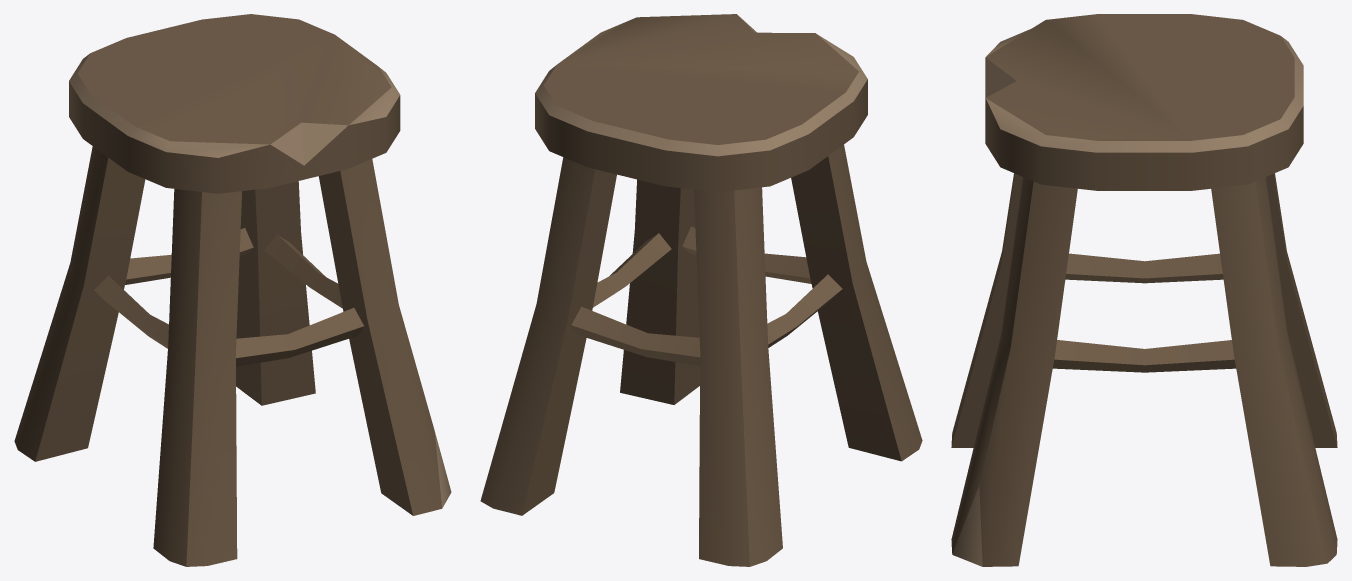
Rendered from 28_LP_Stool.fbx.
3 views of the same model, side by side, from view 1: azimuth 30°, elevation 25°; view 2: azimuth 150°, elevation 25°; view 3: azimuth 270°, elevation 25° (orthographic). The views are drawn at different scales.
Visible parts, largest first — view 1: Stool; view 2: Stool; view 3: Stool.
Boxes of the visible parts, x1,y1,x2,y2 form: Stool: (14,14,451,566); Stool: (480,14,922,566); Stool: (951,14,1337,566).
Bounding box in the file's own units: 34.01 × 45.06 × 37.87.
